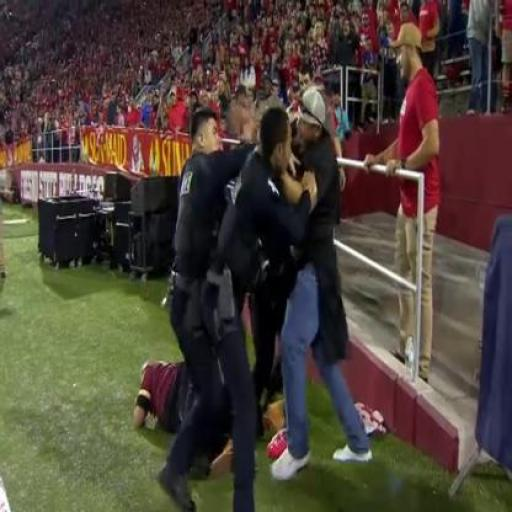Fighting: (135, 102, 375, 512)
